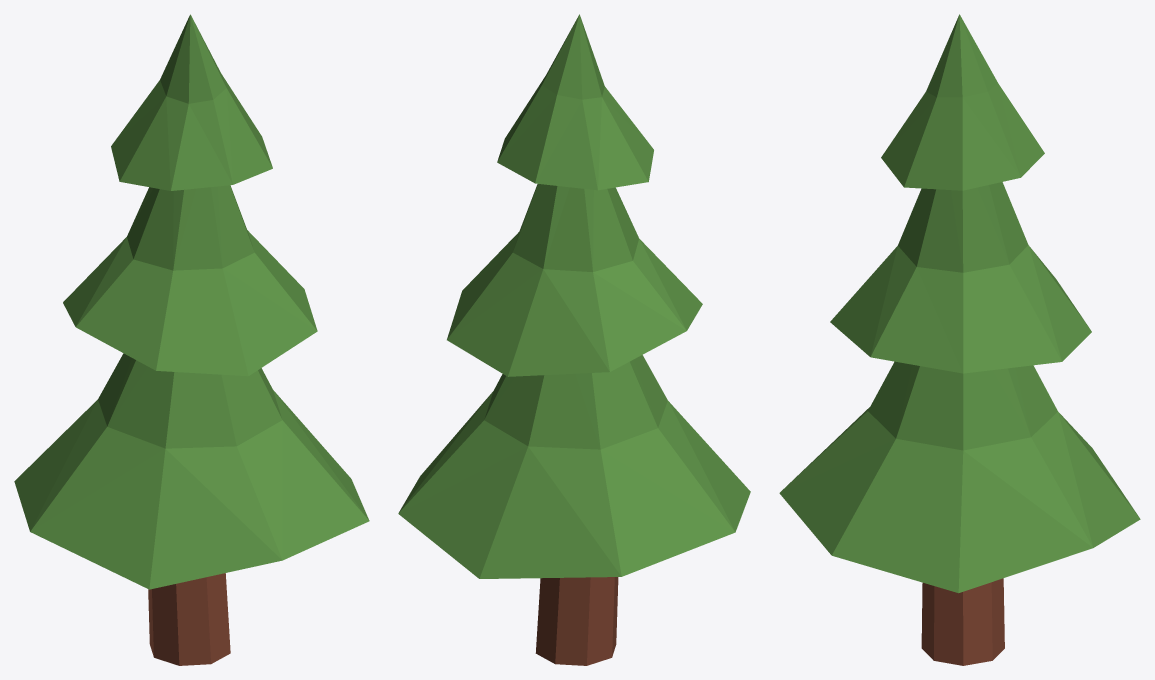
Rendered from tree.glb.
3 renders of one model, left to right at view 1: azimuth 30°, elevation 25°; view 2: azimuth 150°, elevation 25°; view 3: azimuth 270°, elevation 25°, orthographic.
Visible parts, largest first — view 1: Tree; view 2: Tree; view 3: Tree.
Part boxes in pixels (x1=…): Tree: x1=14, y1=14, x2=369, y2=665; Tree: x1=398, y1=14, x2=750, y2=665; Tree: x1=779, y1=14, x2=1140, y2=665.
Size of the model in its own units: 2.14 by 4.08 by 2.11.
